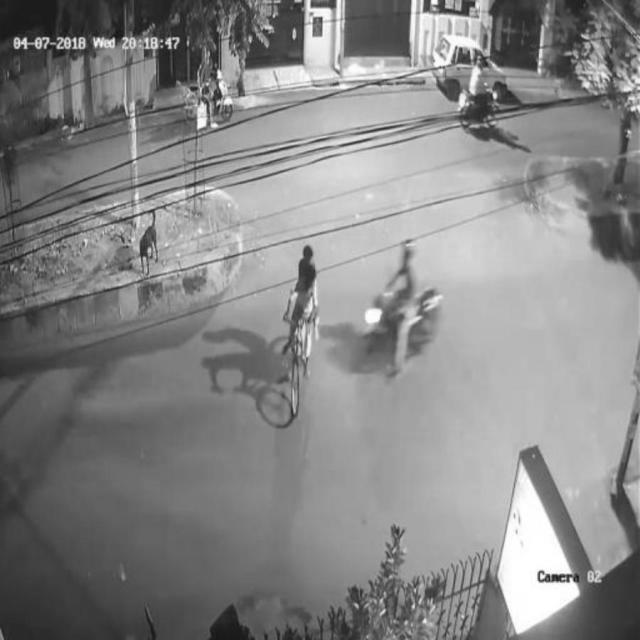vehicle: (351, 237, 442, 375), (283, 247, 324, 414), (430, 27, 508, 91), (191, 55, 233, 126), (456, 62, 498, 129)
